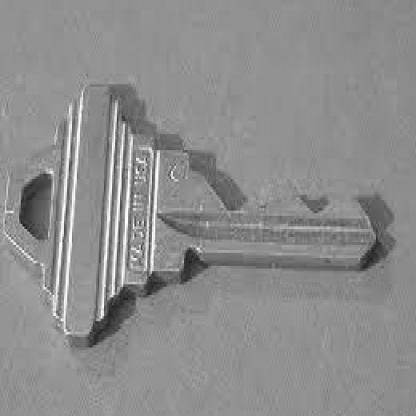key: (4, 88, 384, 345)
